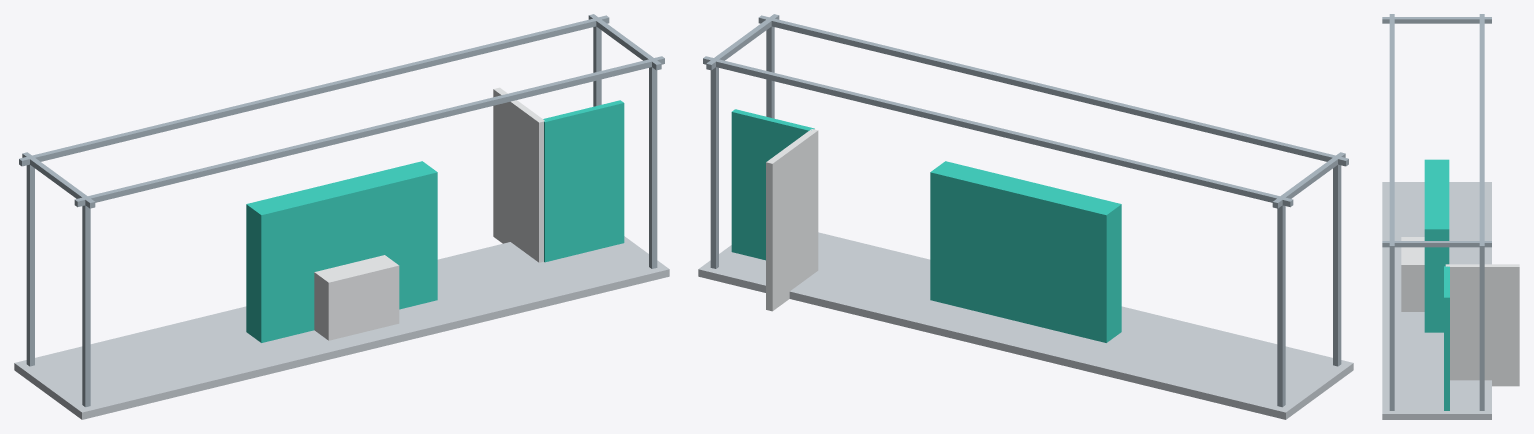
3 renders of one model, left to right at view 1: azimuth 30°, elevation 25°; view 2: azimuth 150°, elevation 25°; view 3: azimuth 270°, elevation 25°, orthographic. The views are drawn at different scales.
Visible parts, largest first — view 1: Exhibition Booth Concept; view 2: Exhibition Booth Concept; view 3: Exhibition Booth Concept.
Part boxes in pixels (left/top/right/bottom): Exhibition Booth Concept: left=14, top=14, right=669, bottom=419; Exhibition Booth Concept: left=698, top=14, right=1353, bottom=419; Exhibition Booth Concept: left=1382, top=14, right=1519, bottom=419.
Size of the model in its own units: 10 by 3.49 by 2.5.
